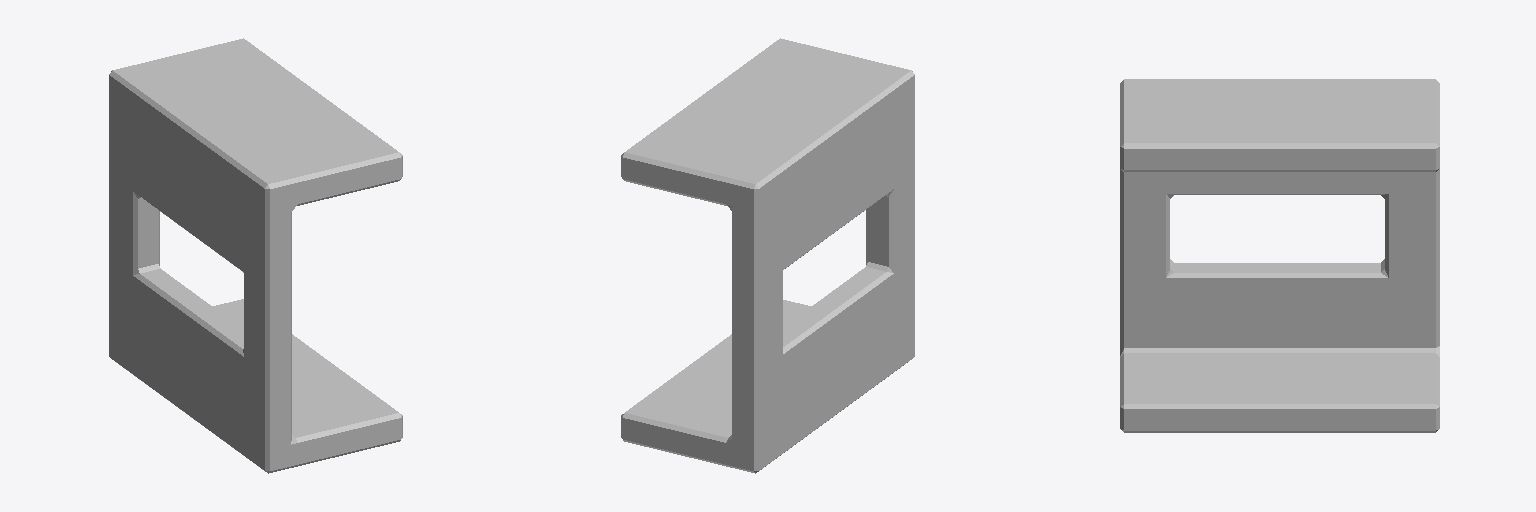
The model's file is metal_carpentry_ubeam.obj.
The picture shows the model from 3 angles: view 1: azimuth 30°, elevation 25°; view 2: azimuth 150°, elevation 25°; view 3: azimuth 270°, elevation 25°; orthographic projection.
Parts seen in each view (by area): view 1: Cube.000; view 2: Cube.000; view 3: Cube.000.
Boxes of the visible parts, box(x1,y1,x2,y2) form: Cube.000: box(109, 38, 402, 473); Cube.000: box(621, 38, 914, 473); Cube.000: box(1120, 79, 1439, 432).
Size of the model in its own units: 0.5 by 1 by 1.